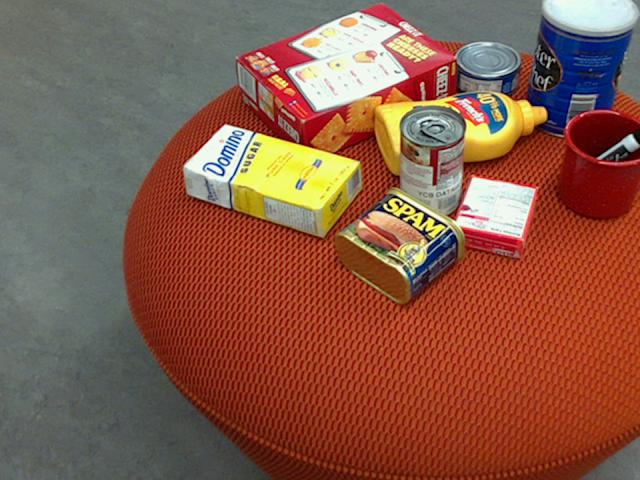cracker_box: (235, 3, 456, 163)
gelatin_box: (451, 176, 539, 260)
large_marker: (560, 125, 639, 193)
master_chef_can: (523, 0, 638, 138)
mug: (557, 108, 639, 218)
mustard_bottle: (374, 92, 546, 174)
potted_meat_can: (333, 186, 464, 303)
sugar_box: (180, 122, 360, 238)
tomato_soup_can: (397, 103, 465, 218)
tuna_fish_can: (450, 41, 520, 98)
